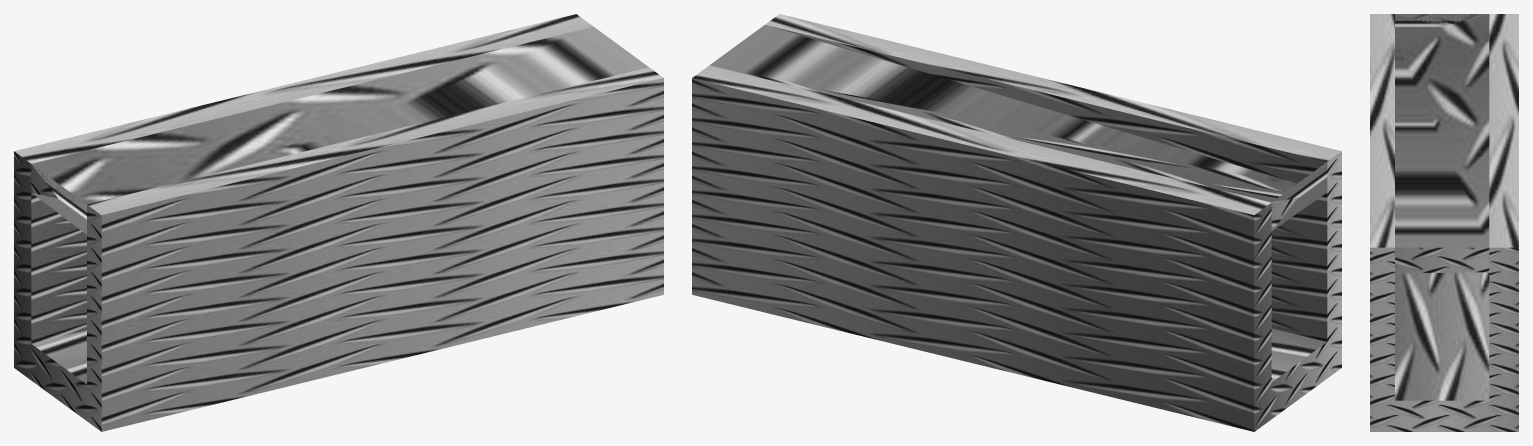
The model's file is hallway.fbx.
3 views of the same model, side by side, from view 1: azimuth 30°, elevation 25°; view 2: azimuth 150°, elevation 25°; view 3: azimuth 270°, elevation 25° (orthographic). The views are drawn at different scales.
Parts seen in each view (by area): view 1: Cube; view 2: Cube; view 3: Cube.
Part boxes in pixels (bbox=[...]): Cube: bbox=[14, 14, 663, 431]; Cube: bbox=[692, 14, 1341, 431]; Cube: bbox=[1370, 14, 1518, 431].
Bounding box in the file's own units: 3202 × 1180 × 863.
